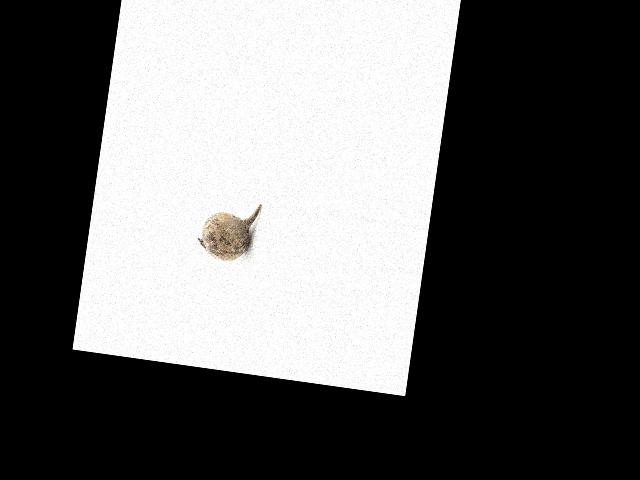beet: (195, 196, 261, 265)
